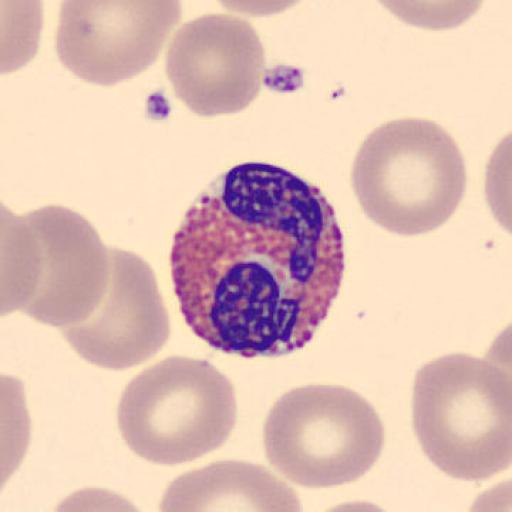RBC: (350, 115, 468, 239), (114, 354, 240, 468), (409, 350, 511, 486), (61, 246, 171, 372), (261, 382, 388, 491), (6, 204, 110, 328), (53, 0, 183, 89), (164, 12, 268, 118), (155, 457, 304, 512), (1, 206, 42, 319), (368, 0, 487, 32), (1, 372, 32, 494), (1, 0, 45, 78), (482, 128, 512, 242), (480, 318, 512, 409), (48, 485, 153, 512), (466, 457, 512, 512), (482, 321, 512, 390), (205, 0, 317, 18), (305, 496, 410, 512), (466, 478, 511, 512)
WBC: (166, 159, 347, 361)
